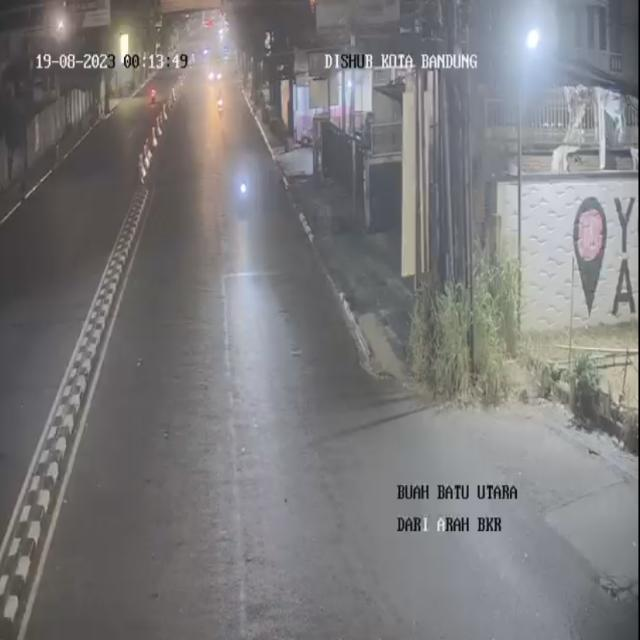motorcycle: (223, 138, 264, 234), (214, 89, 227, 127)
